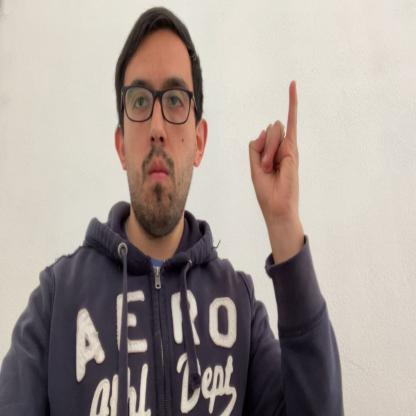I: (248, 78, 301, 224)
